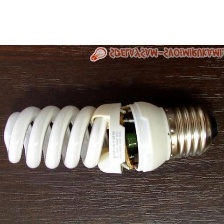light_bulb: (0, 93, 222, 178)
